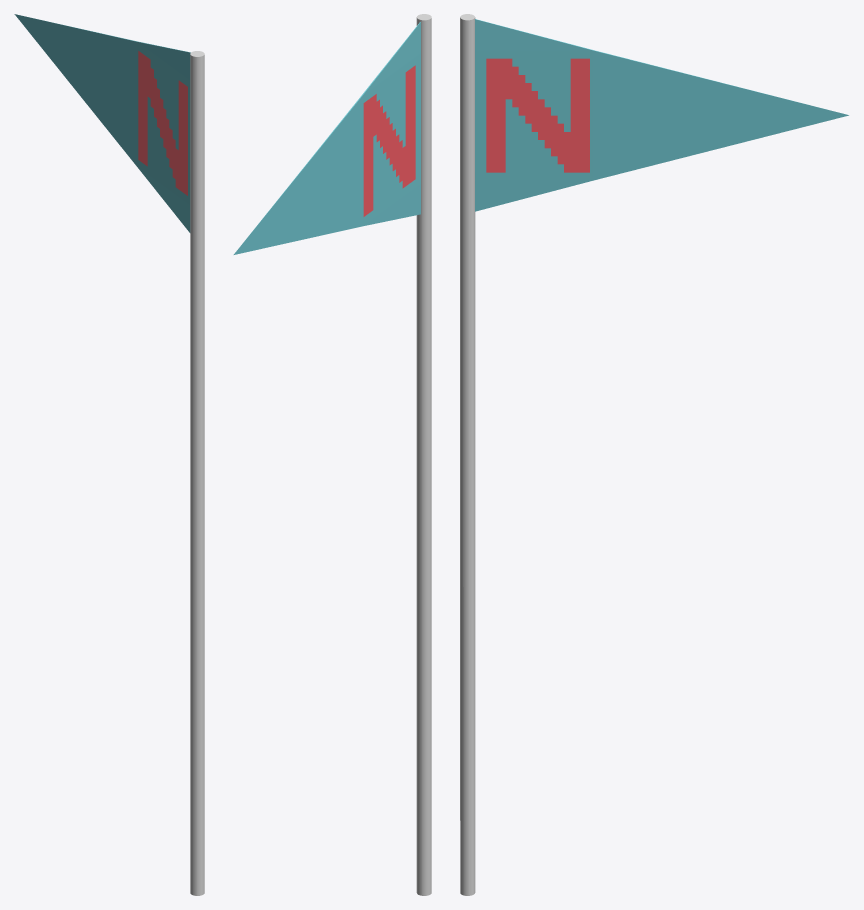
The model's file is flag.glb.
3 renders of one model, left to right at view 1: azimuth 30°, elevation 25°; view 2: azimuth 150°, elevation 25°; view 3: azimuth 270°, elevation 25°, orthographic. The views are drawn at different scales.
Visible parts, largest first — view 1: Cube; view 2: Cube; view 3: Cube.
Boxes of the visible parts, bbox=[...] form: Cube: bbox=[14, 14, 204, 895]; Cube: bbox=[233, 14, 431, 895]; Cube: bbox=[460, 14, 848, 895].
Size of the model in its own units: 0.039 by 2.51 by 1.01.
